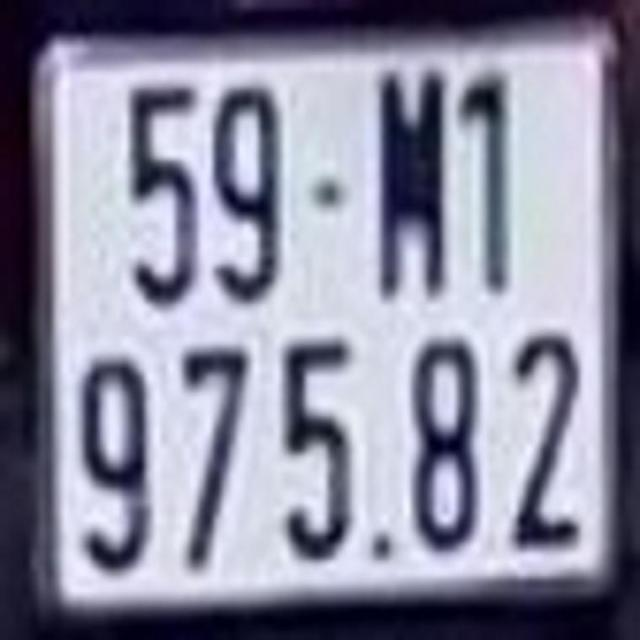1: (453, 60, 523, 295)
2: (506, 326, 585, 554)
5: (126, 78, 207, 308), (277, 332, 357, 564)
7: (175, 338, 251, 569)
8: (407, 324, 480, 556)
9: (74, 346, 154, 573), (208, 74, 284, 311)
H: (372, 66, 452, 305)
